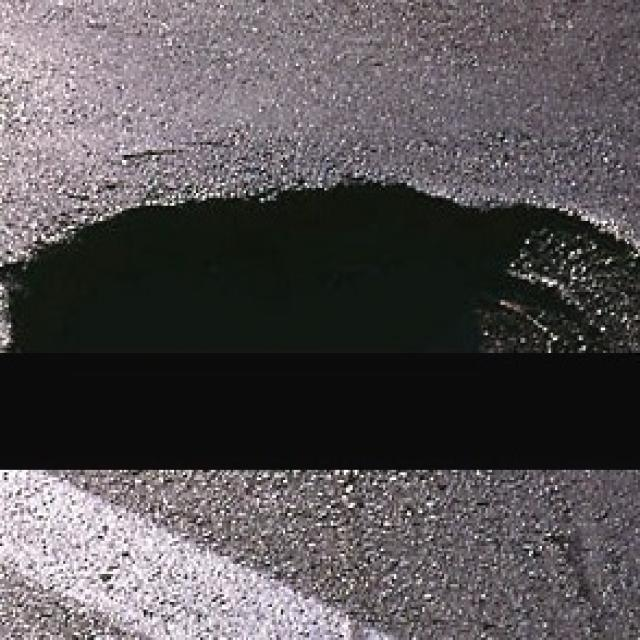road-pothole: (0, 179, 638, 359)
